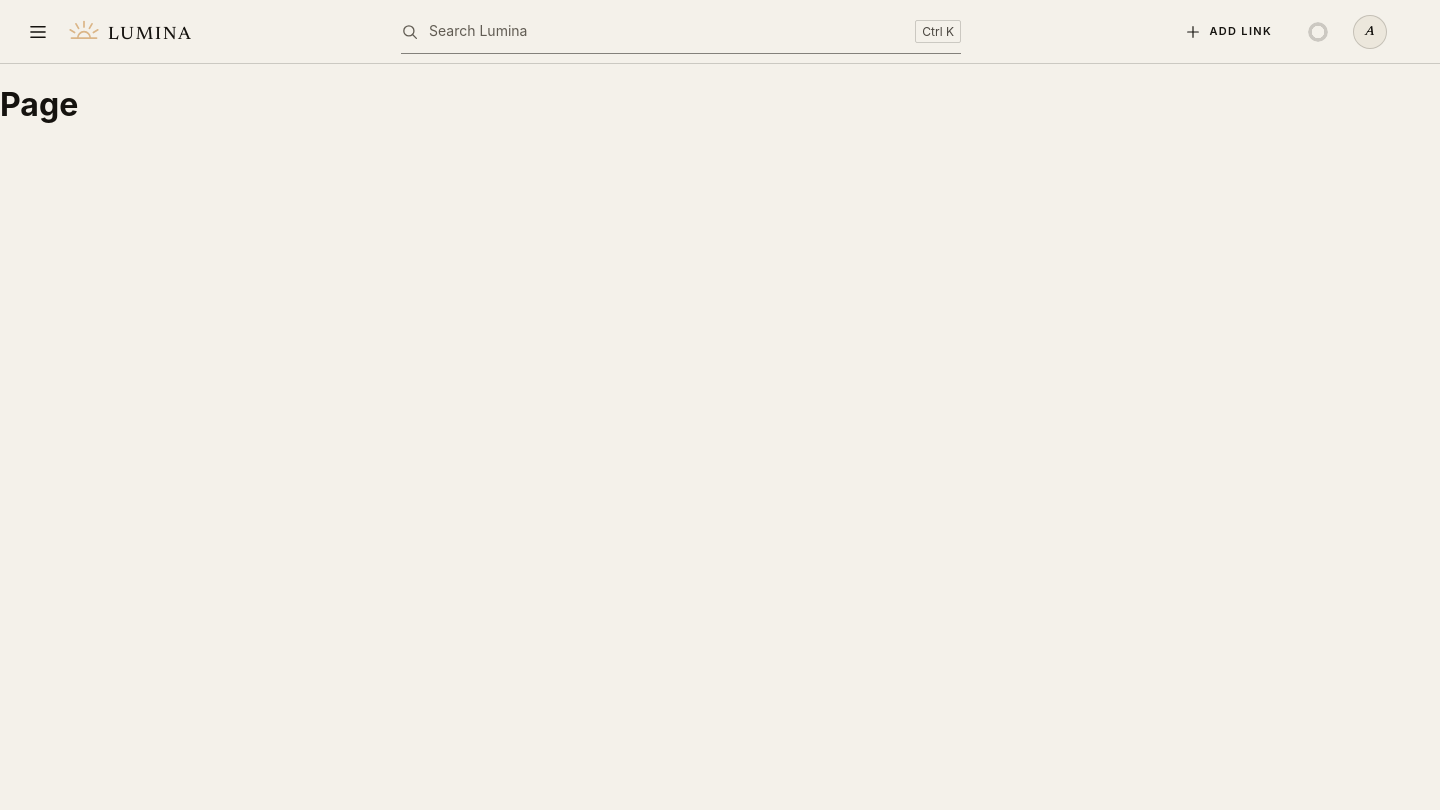
Test: anchored navigation › closes the menu when opening Video or Manage Server
What coordinates should you click on to do the following:
click the button named "Open navigation"
I would click on:
 (38, 32)
Its box is [16,10,60,54].
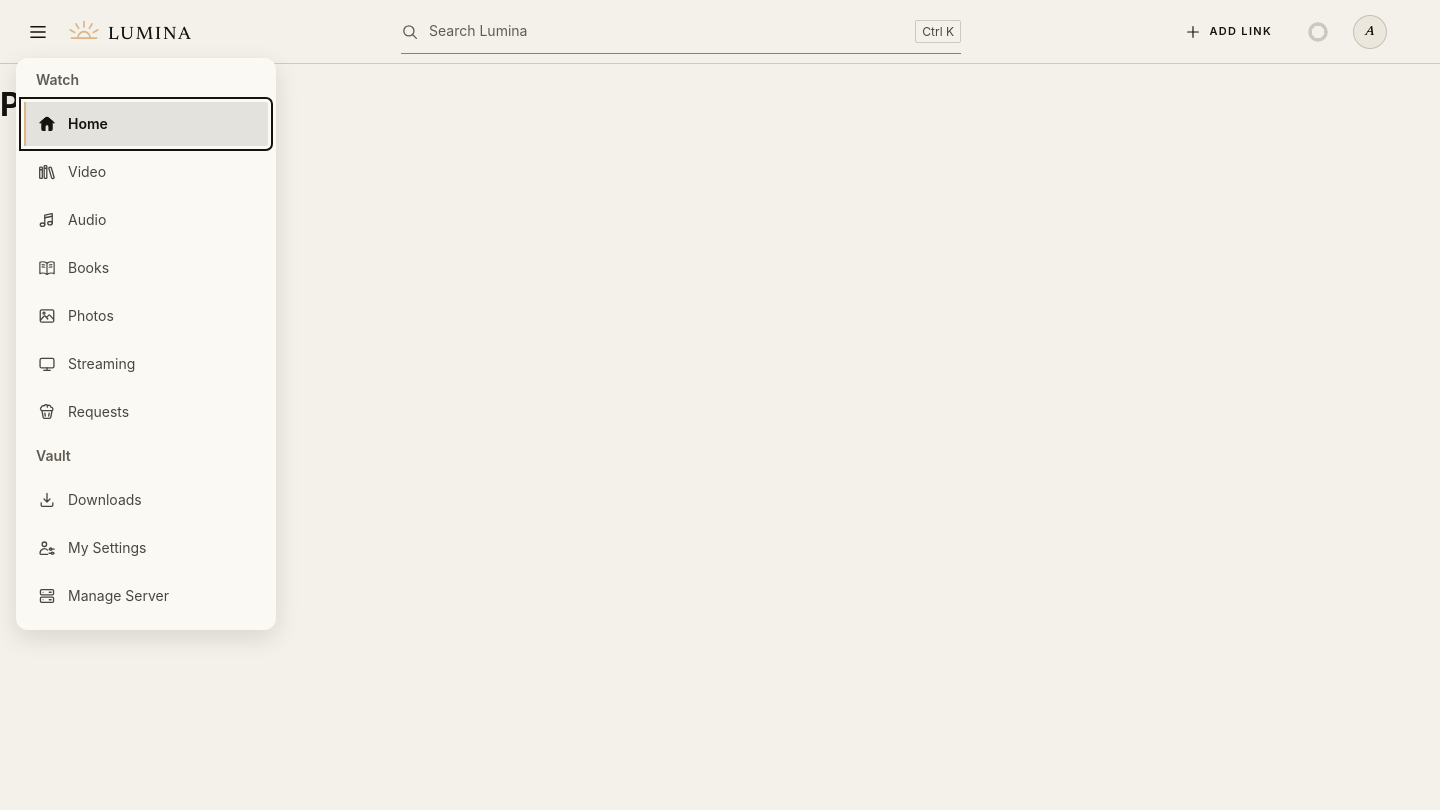
What coordinates should you click on to do the following:
click the button "Video"
I would click on:
 (146, 172)
Its box is [24,150,268,194].
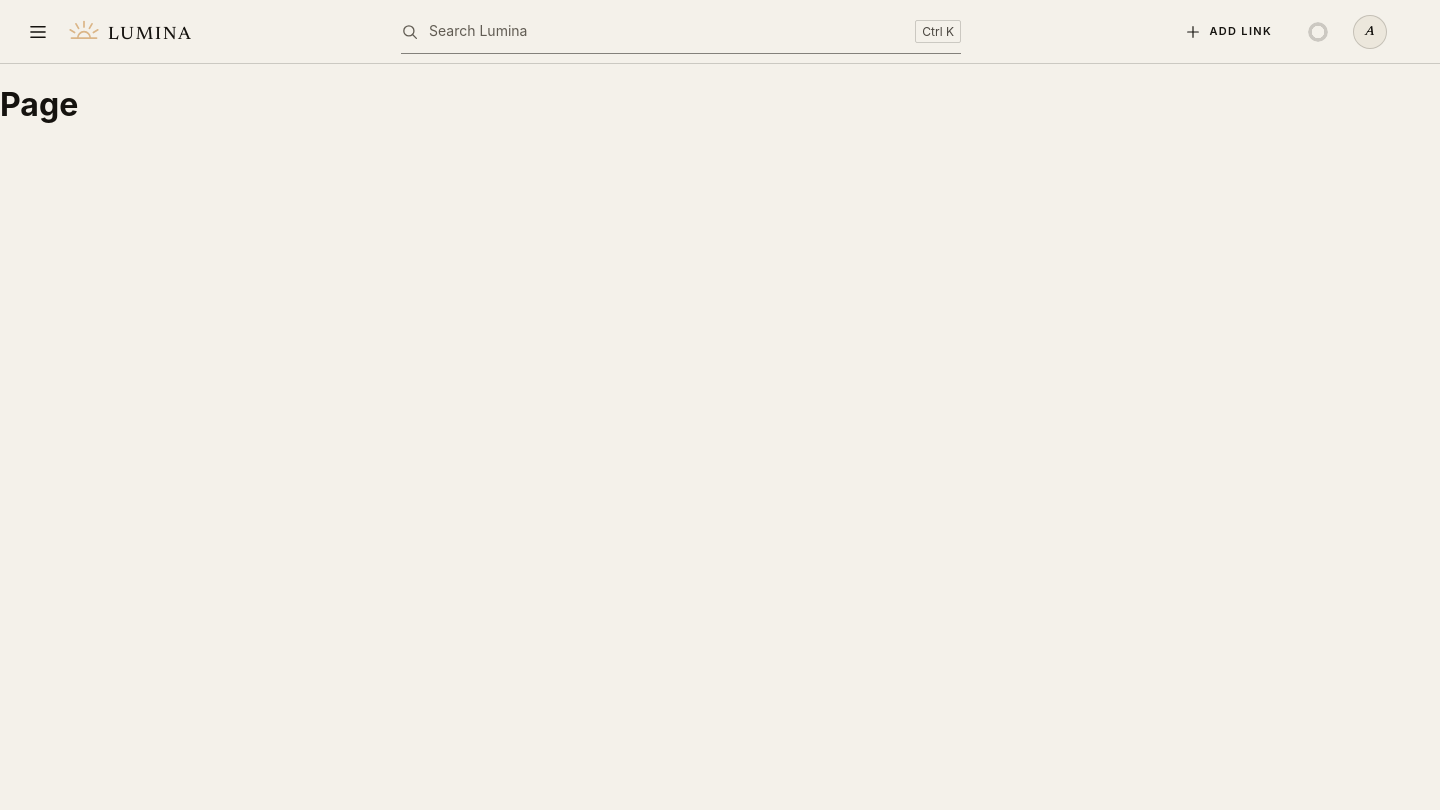
Now the dialog is gone
What coordinates should you click on to do the following:
click the button named "Open navigation"
I would click on:
 (38, 32)
Its box is [16,10,60,54].
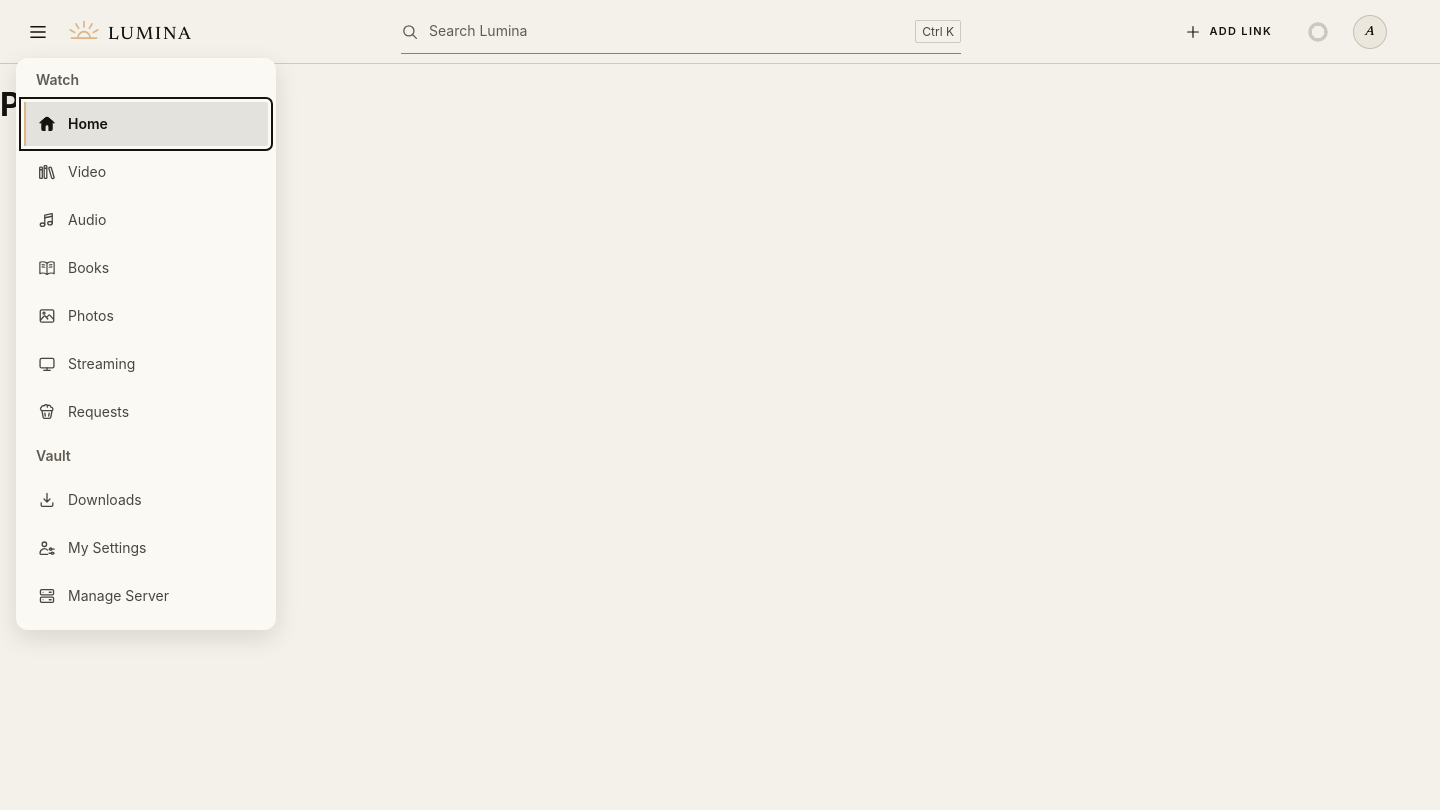
What coordinates should you click on to do the following:
click the button "Manage Server"
I would click on:
 (146, 596)
Its box is [24,574,268,618].
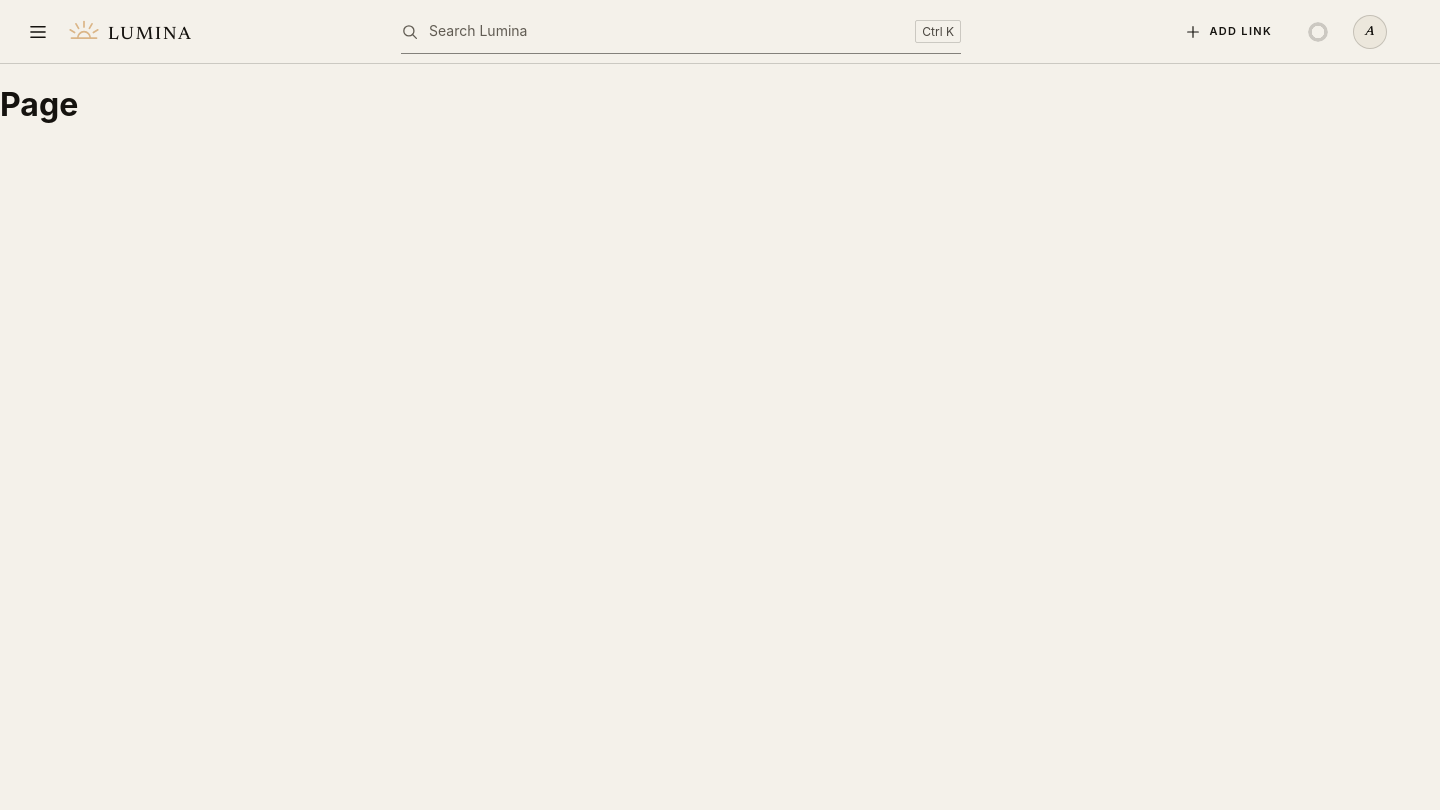
Now the dialog is gone
